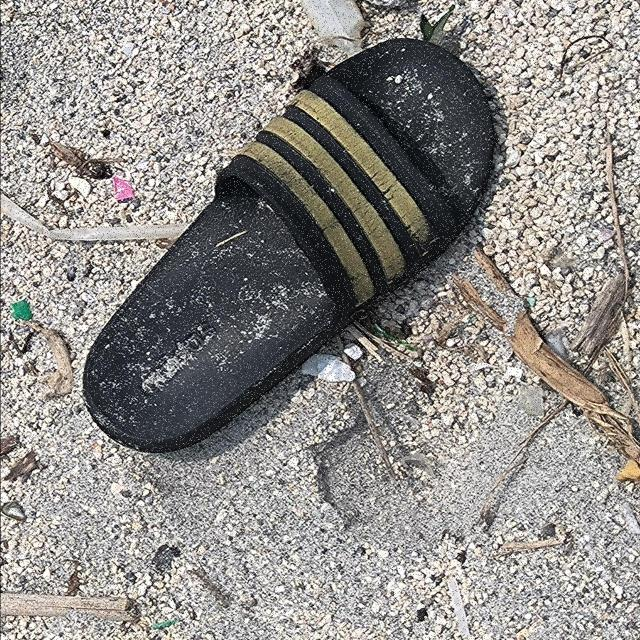rubber_waste: (83, 39, 496, 455)
